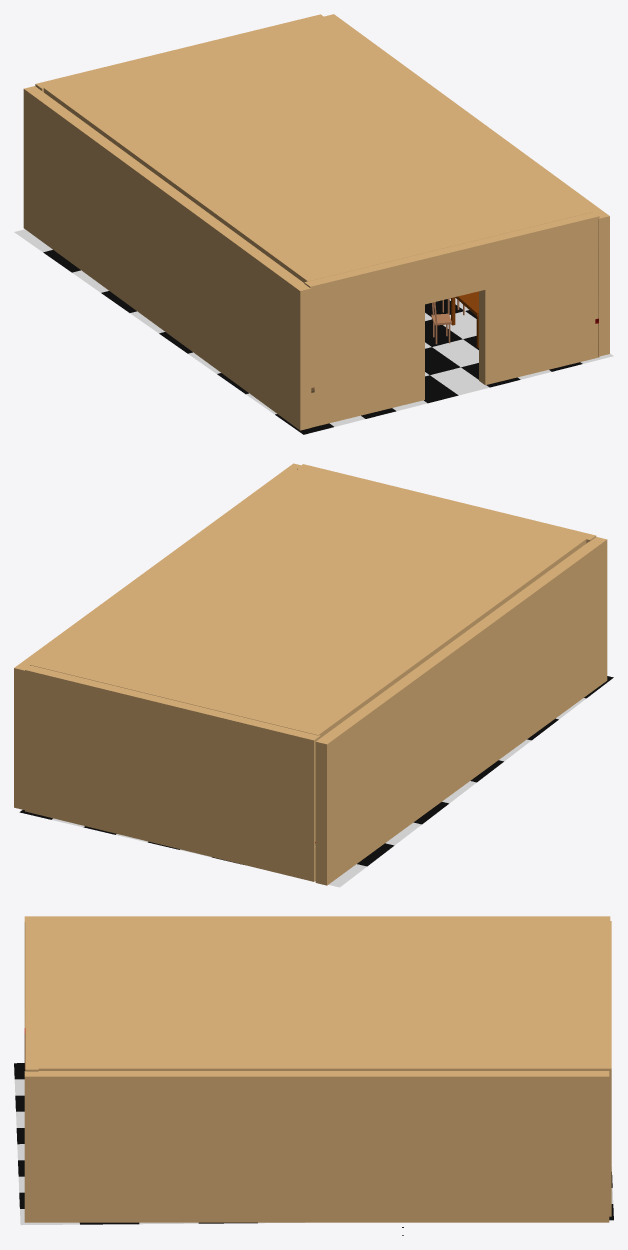
The model's file is Nivell_1.fbx.
3 views of the same model, one above another, from view 1: azimuth 30°, elevation 25°; view 2: azimuth 150°, elevation 25°; view 3: azimuth 270°, elevation 25° (orthographic). The views are drawn at different scales.
Parts seen in each view (by area): view 1: techo, pared.002, pared, suelo, pared.003, pared.004, messa.001; view 2: techo, pared.002, pared.004, pared.003, suelo, pared; view 3: pared.003, techo, pared.002, pared.004, suelo, pared.
Part boxes in pixels (left/top/right/bottom): techo: left=43, top=18, right=591, bottom=282; pared.002: left=23, top=86, right=314, bottom=430; pared: left=304, top=211, right=599, bottom=427; suelo: left=14, top=229, right=613, bottom=434; pared.003: left=324, top=14, right=609, bottom=356; pared.004: left=35, top=14, right=325, bottom=92; messa.001: left=451, top=291, right=478, bottom=347; techo: left=30, top=468, right=586, bottom=737; pared.002: left=314, top=537, right=607, bottom=885; pared.004: left=25, top=665, right=320, bottom=881; pared.003: left=14, top=463, right=300, bottom=810; suelo: left=19, top=676, right=613, bottom=887; pared: left=297, top=464, right=596, bottom=543; pared.003: left=24, top=1071, right=609, bottom=1222; techo: left=38, top=921, right=598, bottom=1070; pared.002: left=24, top=916, right=610, bottom=1069; pared.004: left=597, top=921, right=611, bottom=1216; suelo: left=14, top=1063, right=613, bottom=1225; pared: left=25, top=920, right=38, bottom=1071.
Bounding box in the file's own units: 1003 × 387 × 1407.
